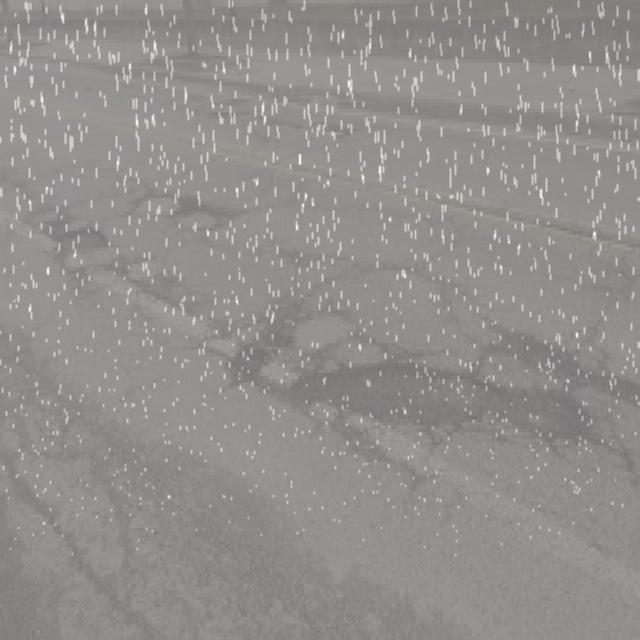Pothole: (0, 415, 159, 605), (225, 300, 427, 412), (467, 326, 595, 406), (39, 207, 129, 291), (135, 186, 251, 244)
